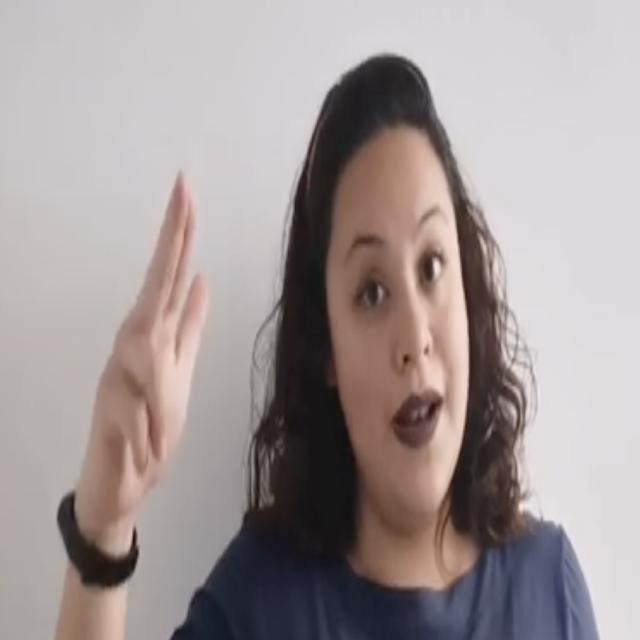hola: (65, 144, 220, 526)
